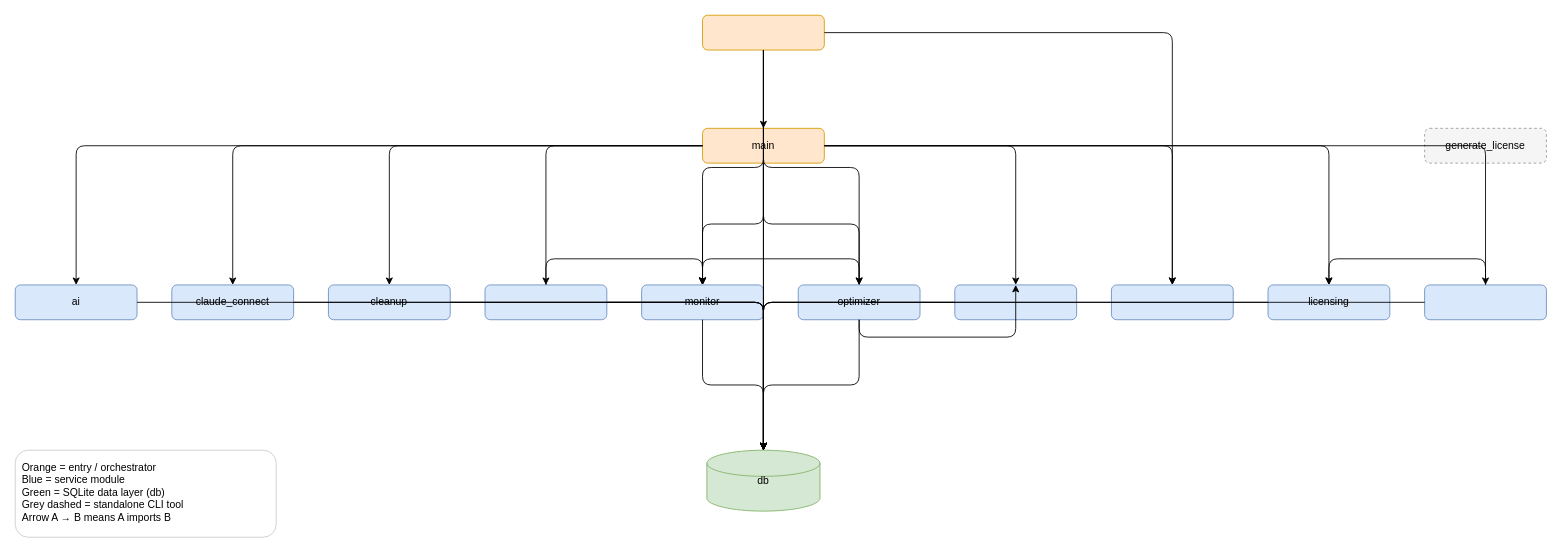
Some shapes in this 1562 by 552 pixel diagram are drawn without their labels. The shapes that lost their labels are listed below. From the top down, each one's box as (x1, y1, x2, y2) in pixels, then its label:
(702, 14, 824, 50): desktop
(484, 284, 607, 320): hardware
(954, 284, 1077, 320): control
(1111, 284, 1233, 320): updater
(1424, 284, 1546, 320): upgrade
